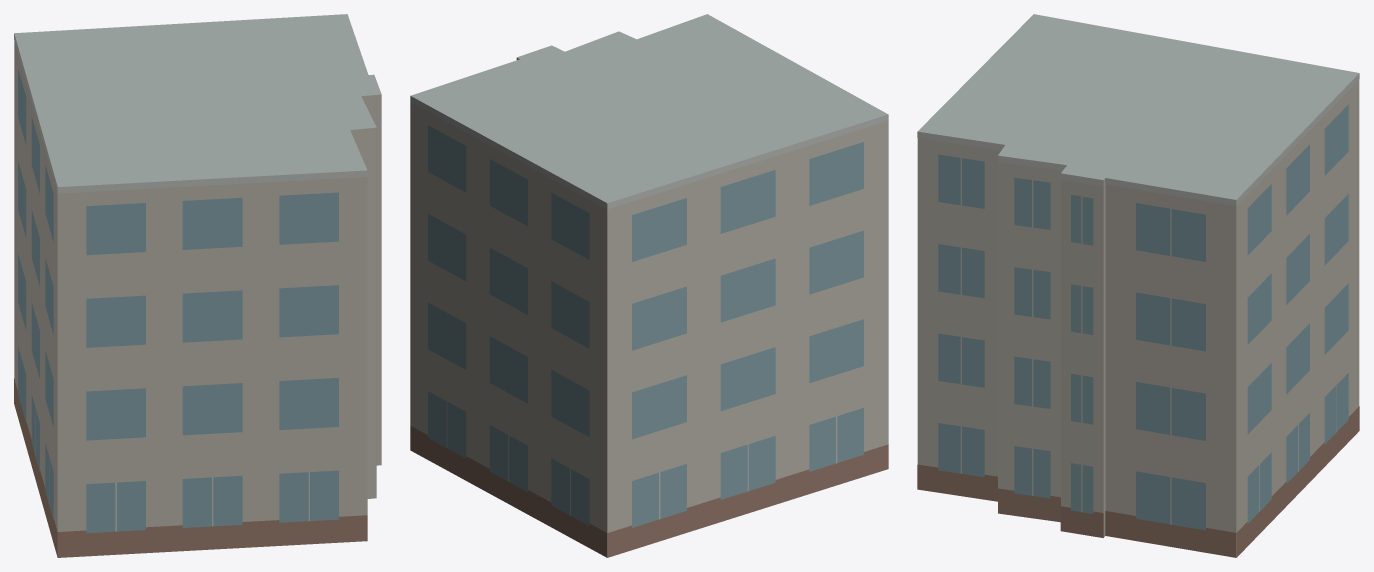
Rendered from survey-upis-32653508.glb.
The picture shows the model from 3 angles, left to right: view 1: azimuth 30°, elevation 25°; view 2: azimuth 150°, elevation 25°; view 3: azimuth 270°, elevation 25°; orthographic projection. The views are drawn at different scales.
Parts seen in each view (by area): view 1: survey-upis-32653508.tmp; view 2: survey-upis-32653508.tmp; view 3: survey-upis-32653508.tmp.
Boxes of the visible parts, <box> form: survey-upis-32653508.tmp: <box>14,14,381,557</box>; survey-upis-32653508.tmp: <box>410,14,888,557</box>; survey-upis-32653508.tmp: <box>917,14,1359,557</box>.
Bounding box in the file's own units: 15.72 × 14.1 × 15.79.
